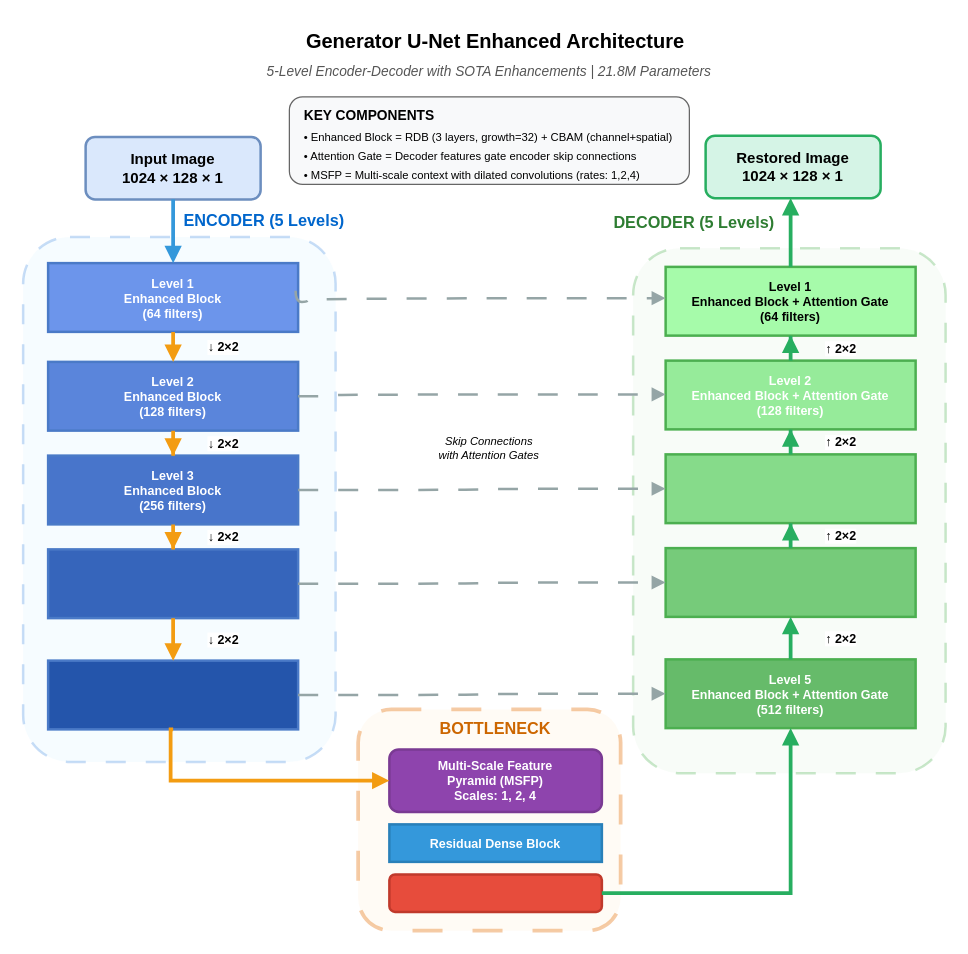
Image size: 968x954. Some labels were removed from this diagram. The shapes that lost their labels are listed below. From the top down, each one's centre as x and y in pixels, then its label:
At (790,488): "Level 3 Enhanced Block + Attention Gate (256 filters)".
At (172,583): "Level 4 Enhanced Block (512 filters)".
At (790,582): "Level 4 Enhanced Block + Attention Gate (512 filters)".
At (172,694): "Level 5 Enhanced Block (512 filters)".
At (495,892): "CBAM Attention".
